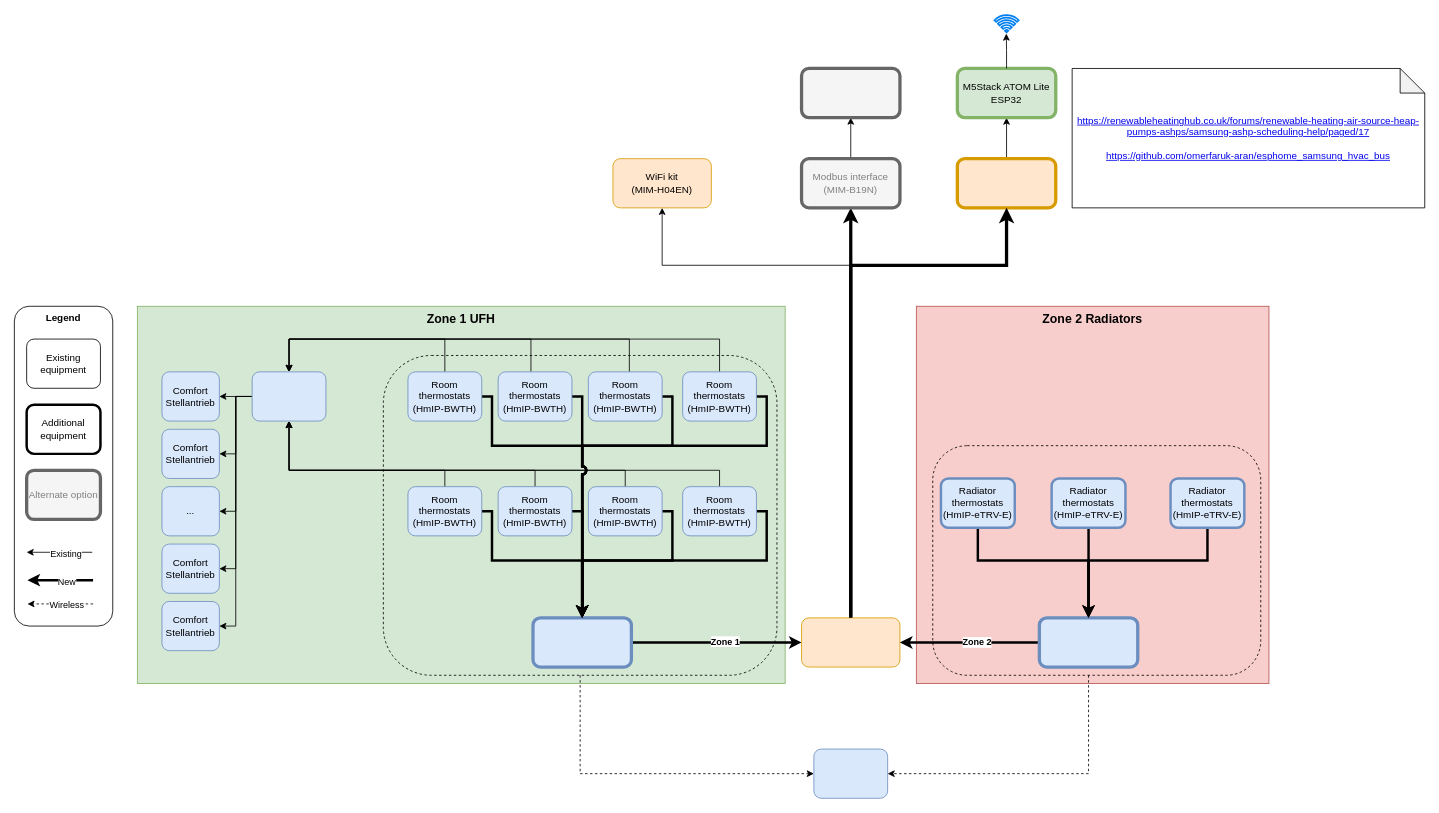
The diagram is 1439 pixels wide and 813 high, and some of its shapes have lost their labels. The shapes that lost their labels are listed below. From the top down, each one's centre as x and y in pixels, then its label:
At [850,92]: "Data logger (RS485<>USB)".
At [1006,183]: "M5Stack RS485 (Samsung NASA protocol)".
At [288,396]: "Strawa Comfort RT8-STA14".
At [582,642]: "Multi-IO Box (HmIP-MIOB)".
At [850,642]: "Samsung Heatpump (Mono-HT-QT-14)".
At [1088,642]: "2ch Switching actuator (HmIP-WHS2)".
At [850,773]: "CCU3 (HmIP-CCU3)".
